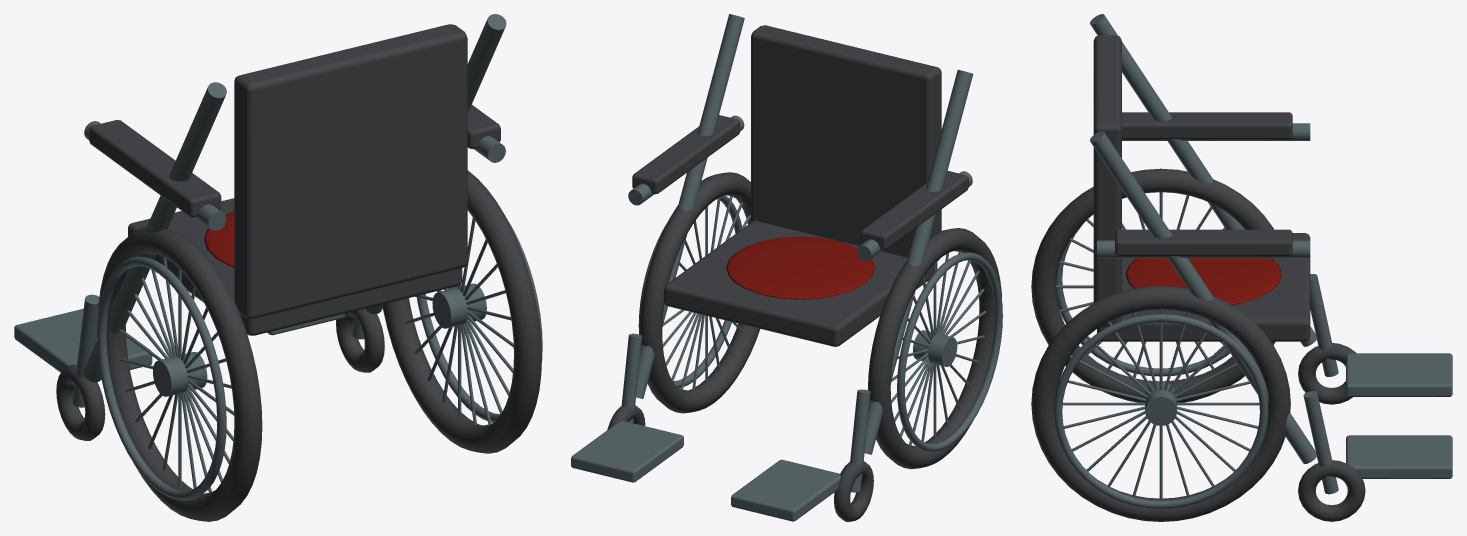
File: Wheelchair.obj
3 views of the same model, side by side, from view 1: azimuth 30°, elevation 25°; view 2: azimuth 150°, elevation 25°; view 3: azimuth 270°, elevation 25° (orthographic). The views are drawn at different scales.
Parts seen in each view (by area): view 1: Wheelchair; view 2: Wheelchair; view 3: Wheelchair.
Part boxes in pixels (x1,y1,x2,y2): Wheelchair: (14,14,542,521); Wheelchair: (571,14,1002,521); Wheelchair: (1031,14,1452,521).
Size of the model in its own units: 0.9054 by 1.21 by 1.19.
